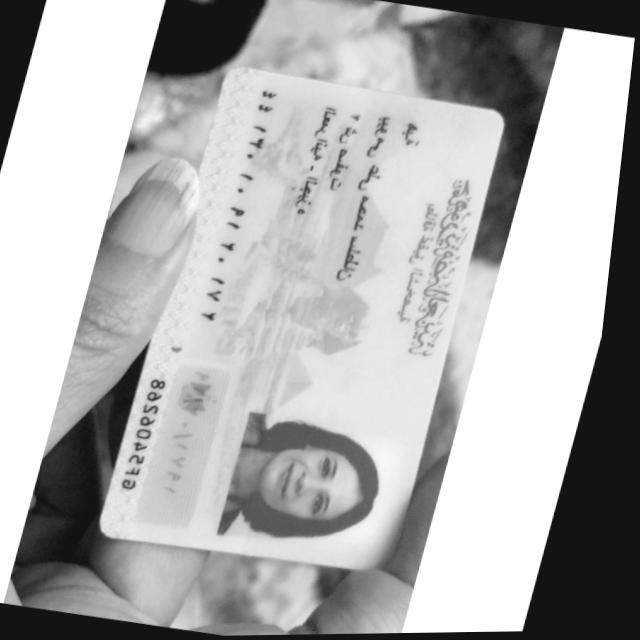id_card: (102, 67, 504, 570)
